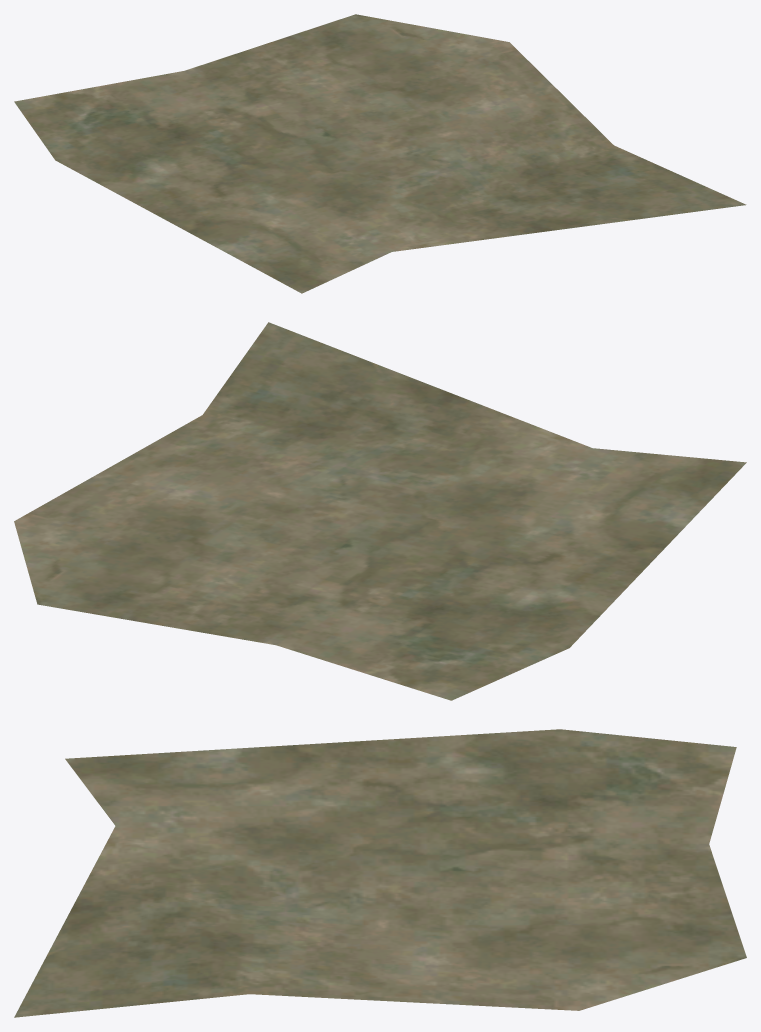
File: OVERHILL_A_01_GROUND2.fbx
3 renders of one model, top to bottom at view 1: azimuth 30°, elevation 25°; view 2: azimuth 150°, elevation 25°; view 3: azimuth 270°, elevation 25°, orthographic. The views are drawn at different scales.
Parts seen in each view (by area): view 1: OVERHILL_A_01_GROUND2; view 2: OVERHILL_A_01_GROUND2; view 3: OVERHILL_A_01_GROUND2.
Part boxes in pixels (box(x1,y1,x2,y2)): OVERHILL_A_01_GROUND2: box(14, 14, 746, 293); OVERHILL_A_01_GROUND2: box(14, 322, 746, 700); OVERHILL_A_01_GROUND2: box(14, 729, 746, 1017).
Bounding box in the file's own units: 16651 × 0.00291 × 17880.
1 material, 1 textured.
